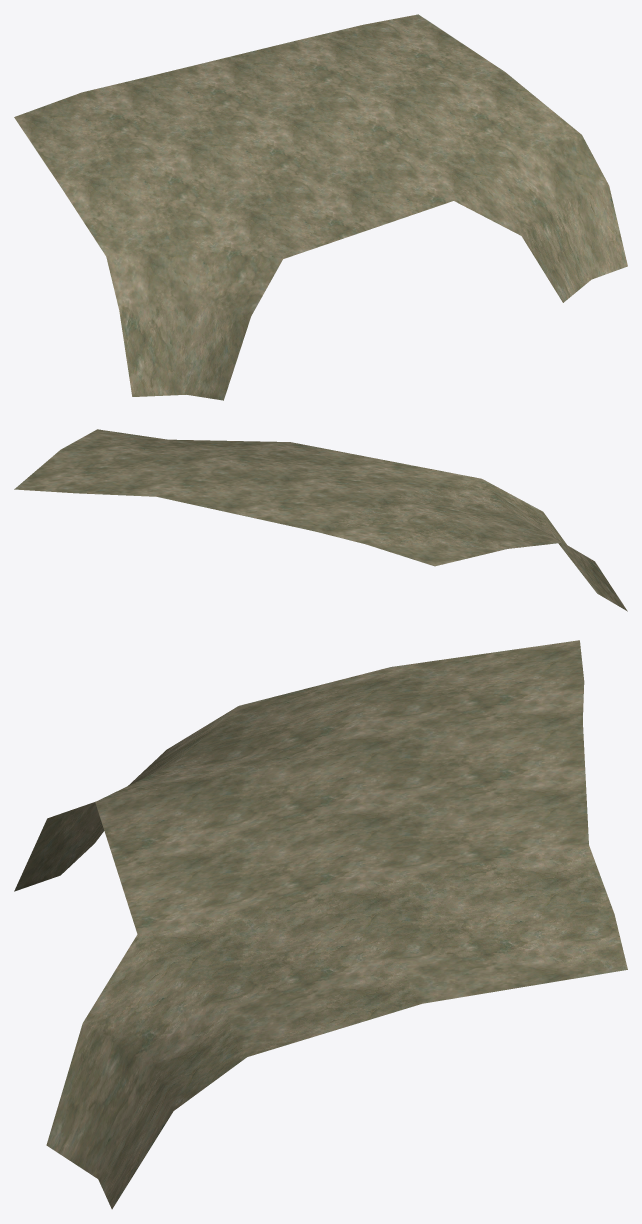
Rendered from OVERHILL_A_01_OBJECT161.fbx.
3 views of the same model, one above another, from view 1: azimuth 30°, elevation 25°; view 2: azimuth 150°, elevation 25°; view 3: azimuth 270°, elevation 25° (orthographic). The views are drawn at different scales.
Visible parts, largest first — view 1: OVERHILL_A_01_OBJECT161; view 2: OVERHILL_A_01_OBJECT161; view 3: OVERHILL_A_01_OBJECT161.
Part boxes in pixels (bbox=[...]): OVERHILL_A_01_OBJECT161: bbox=[14, 14, 627, 400]; OVERHILL_A_01_OBJECT161: bbox=[14, 429, 627, 611]; OVERHILL_A_01_OBJECT161: bbox=[14, 640, 627, 1209].
Bounding box in the file's own units: 345889 × 105351 × 240065.
2 materials, 2 textured.
